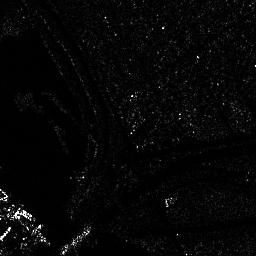ship: (59, 226, 91, 253)
